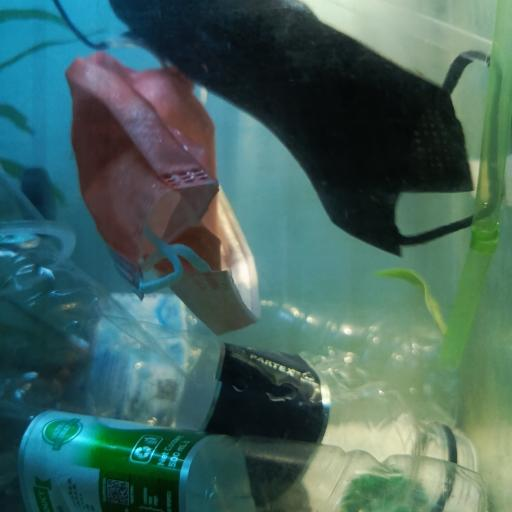mask: (54, 0, 504, 255), (63, 54, 259, 338)
plastic_bottle: (0, 227, 477, 507), (27, 285, 460, 430), (0, 402, 510, 512)
plastic_straw: (438, 1, 512, 363), (342, 0, 490, 68)
